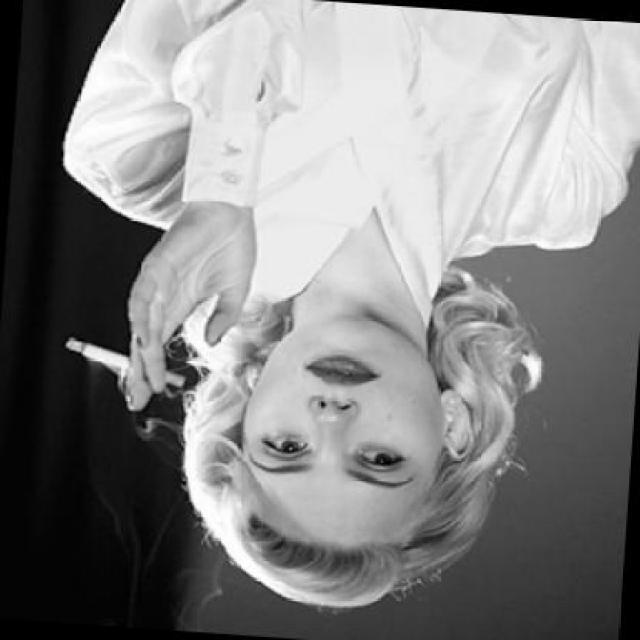smoke: (58, 330, 190, 388)
